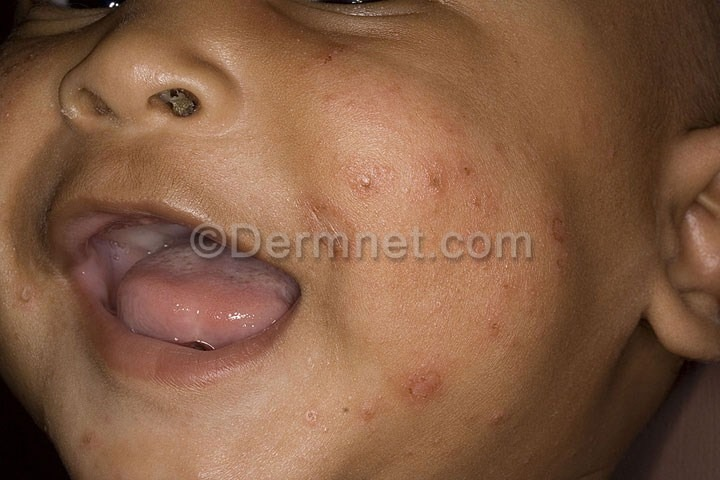Eczema: (309, 52, 607, 451), (69, 403, 107, 455), (7, 277, 47, 318)
